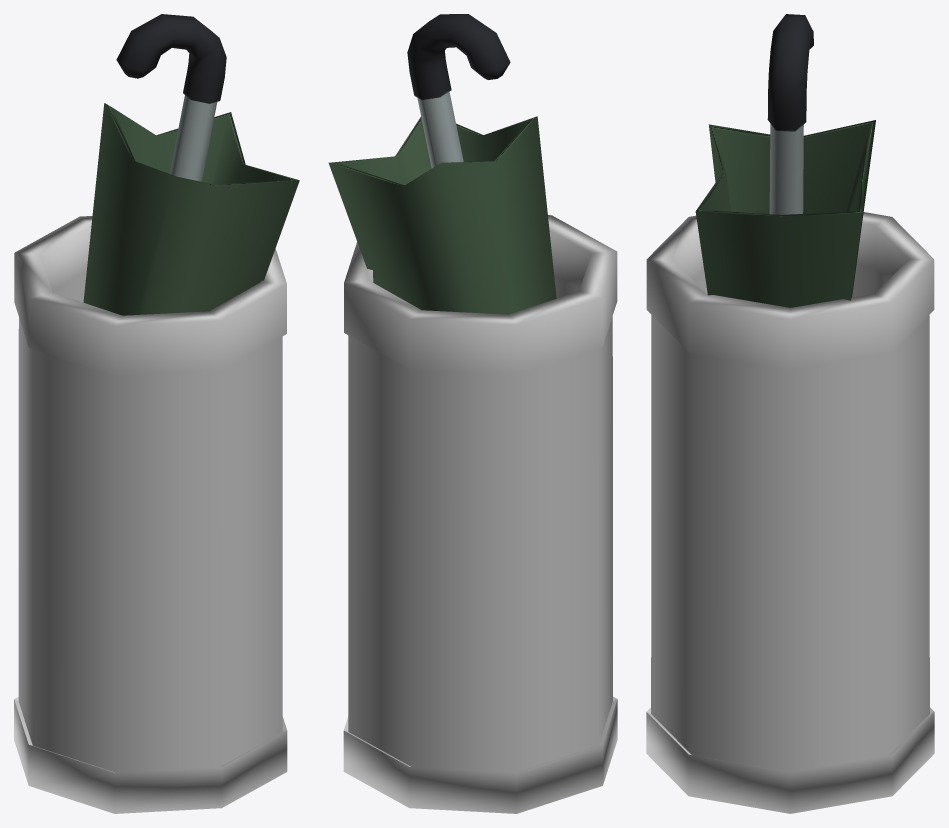
The model's file is Friday_umbrellaHolder 1.fbx.
The picture shows the model from 3 angles, left to right: view 1: azimuth 30°, elevation 25°; view 2: azimuth 150°, elevation 25°; view 3: azimuth 270°, elevation 25°; orthographic projection.
Parts seen in each view (by area): view 1: pCylinder3, pCylinder9; view 2: pCylinder3, pCylinder9; view 3: pCylinder3, pCylinder9.
Boxes of the visible parts, x1,y1,x2,y2 form: pCylinder3: [14, 216, 287, 813]; pCylinder9: [83, 14, 299, 315]; pCylinder3: [343, 215, 617, 813]; pCylinder9: [328, 14, 556, 314]; pCylinder3: [646, 212, 934, 813]; pCylinder9: [695, 14, 875, 307].
Bounding box in the file's own units: 4.59 × 13.19 × 4.63.
